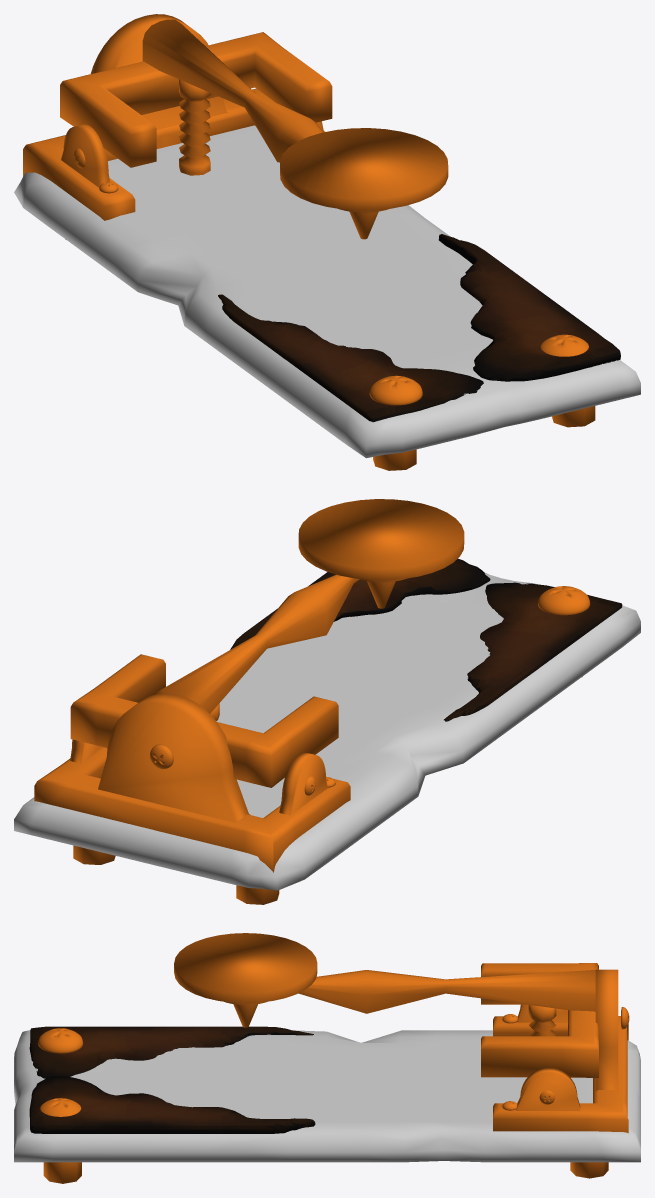
The model's file is Tapper.fbx.
The picture shows the model from 3 angles, top to bottom: view 1: azimuth 30°, elevation 25°; view 2: azimuth 150°, elevation 25°; view 3: azimuth 270°, elevation 25°; orthographic projection. The views are drawn at different scales.
Parts seen in each view (by area): view 1: Base, RodBase, Rod, Decorations.001, Decorations, RodBase.001, Feet, Screws, Screws.001; view 2: Base, RodBase, Rod, Decorations, Decorations.001, Screws, Feet; view 3: Base, RodBase, Rod, Decorations.001, Decorations, Feet, Screws, RodBase.001, Screws.001.
Part boxes in pixels (box(x1,y1,x2,y2)): Base: box(14, 125, 640, 458); RodBase: box(23, 14, 332, 220); Rod: box(142, 19, 448, 239); Decorations.001: box(438, 234, 620, 381); Decorations: box(218, 294, 483, 422); RodBase.001: box(179, 79, 210, 175); Feet: box(65, 239, 595, 470); Screws: box(369, 375, 422, 405); Screws.001: box(540, 334, 588, 356); Base: box(14, 573, 640, 890); RodBase: box(34, 654, 350, 872); Rod: box(155, 499, 464, 713); Decorations: box(444, 582, 622, 721); Decorations.001: box(230, 558, 490, 649); Screws: box(538, 586, 590, 615); Feet: box(73, 676, 582, 904); Base: box(14, 1030, 640, 1162); RodBase: box(481, 963, 629, 1133); Rod: box(174, 933, 595, 1027); Decorations.001: box(29, 1076, 315, 1133); Decorations: box(29, 1026, 313, 1078); Feet: box(43, 1162, 608, 1183); Screws: box(38, 1028, 83, 1053); RodBase.001: box(528, 1005, 556, 1036); Screws.001: box(40, 1098, 81, 1116).
Size of the model in its own units: 200 by 141 by 469.
